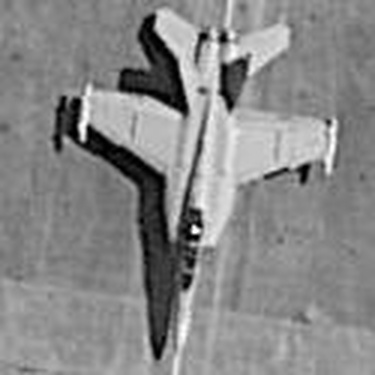airplane: (56, 4, 353, 373)
